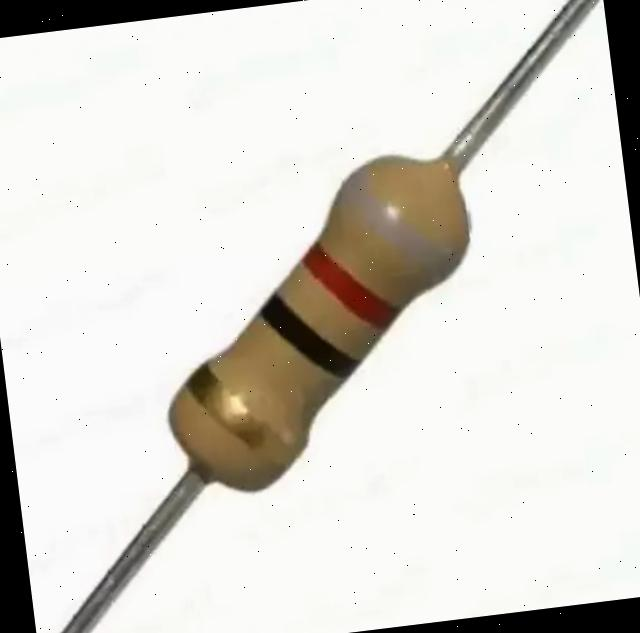black: (261, 290, 361, 380)
gold: (182, 362, 301, 468)
resistor: (132, 113, 527, 534)
white: (348, 162, 462, 282), (299, 240, 402, 331)
